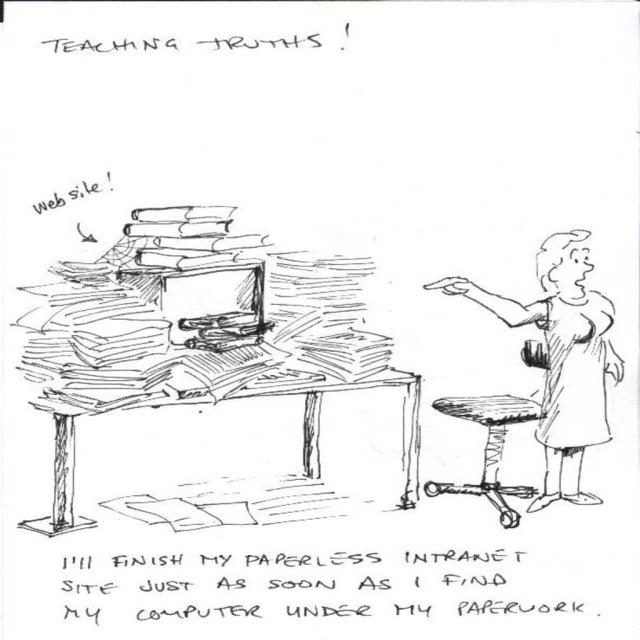desk: (19, 367, 420, 534)
